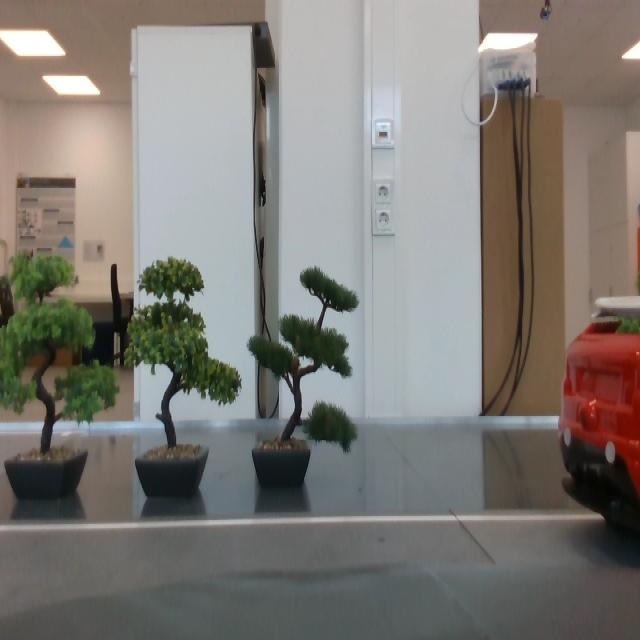car: (558, 294, 640, 536)
potted plant: (1, 247, 120, 498), (127, 259, 243, 495), (247, 265, 360, 488)
